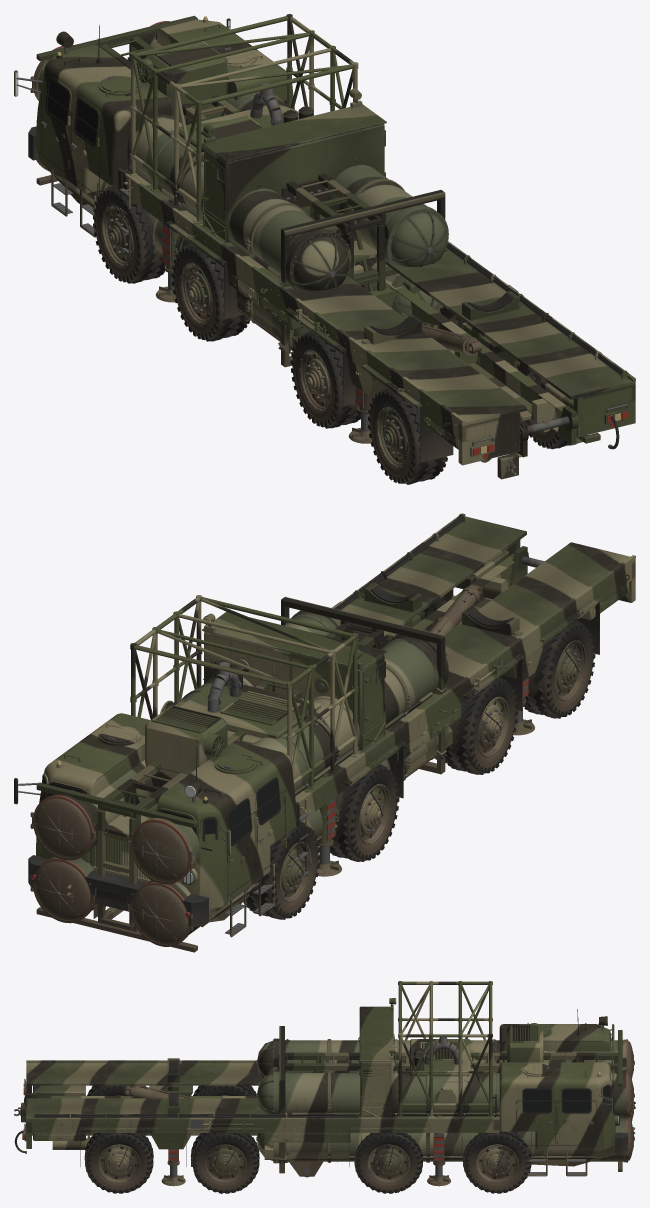
The picture shows the model from 3 angles, top to bottom: view 1: azimuth 30°, elevation 25°; view 2: azimuth 150°, elevation 25°; view 3: azimuth 270°, elevation 25°; orthographic projection. The views are drawn at different scales.
Visible parts, largest first — view 1: body|S3_A, body|S3_PA, cradle|S3_B, cradle|S3_PB, body|S3_rubberF, body|S3_steelF, body|S3_glassF, body|S3_darkF, cyl0|S3_B; view 2: body|S3_A, body|S3_PA, cradle|S3_PB, cradle|S3_B, body|S3_rubberF, lid2|S3_B, lid3|S3_B, lid0|S3_B, lid1|S3_B, body|S3_steelF, body|S3_glassF, body|S3_darkF (+1 smaller); view 3: body|S3_A, cradle|S3_B, body|S3_PA, cradle|S3_PB, body|S3_rubberF, body|S3_glassF, body|S3_steelF, body|S3_darkF, cyl0|S3_B, lid3|S3_B.
Part boxes in pixels (x1,y1,x2,y2): body|S3_A: (28, 19, 635, 482); body|S3_PA: (14, 14, 628, 462); cradle|S3_B: (34, 22, 448, 351); cradle|S3_PB: (36, 15, 447, 367); body|S3_rubberF: (34, 70, 622, 484); body|S3_steelF: (16, 26, 523, 467); body|S3_glassF: (47, 80, 97, 144); body|S3_darkF: (41, 25, 406, 461); cyl0|S3_B: (403, 316, 478, 355); body|S3_A: (28, 513, 635, 926); body|S3_PA: (14, 513, 630, 937); cradle|S3_PB: (36, 597, 447, 952); cradle|S3_B: (48, 610, 448, 937); body|S3_rubberF: (41, 515, 595, 919); lid2|S3_B: (127, 819, 193, 884); lid3|S3_B: (30, 795, 95, 860); lid0|S3_B: (127, 882, 193, 946); lid1|S3_B: (30, 858, 94, 923); body|S3_steelF: (18, 600, 613, 934); body|S3_glassF: (43, 778, 279, 843); body|S3_darkF: (45, 645, 580, 902); body|S3_A: (14, 998, 628, 1192); cradle|S3_B: (258, 1038, 626, 1163); body|S3_PA: (32, 981, 635, 1179); cradle|S3_PB: (257, 1026, 626, 1177); body|S3_rubberF: (35, 1035, 613, 1193); body|S3_glassF: (523, 1037, 612, 1112); body|S3_steelF: (56, 1025, 631, 1183); body|S3_darkF: (101, 1009, 619, 1179); cyl0|S3_B: (131, 1084, 194, 1098); lid3|S3_B: (626, 1072, 634, 1119).
Size of the model in its own units: 3.54 by 3.69 by 12.85.
33 materials, 15 textured.
